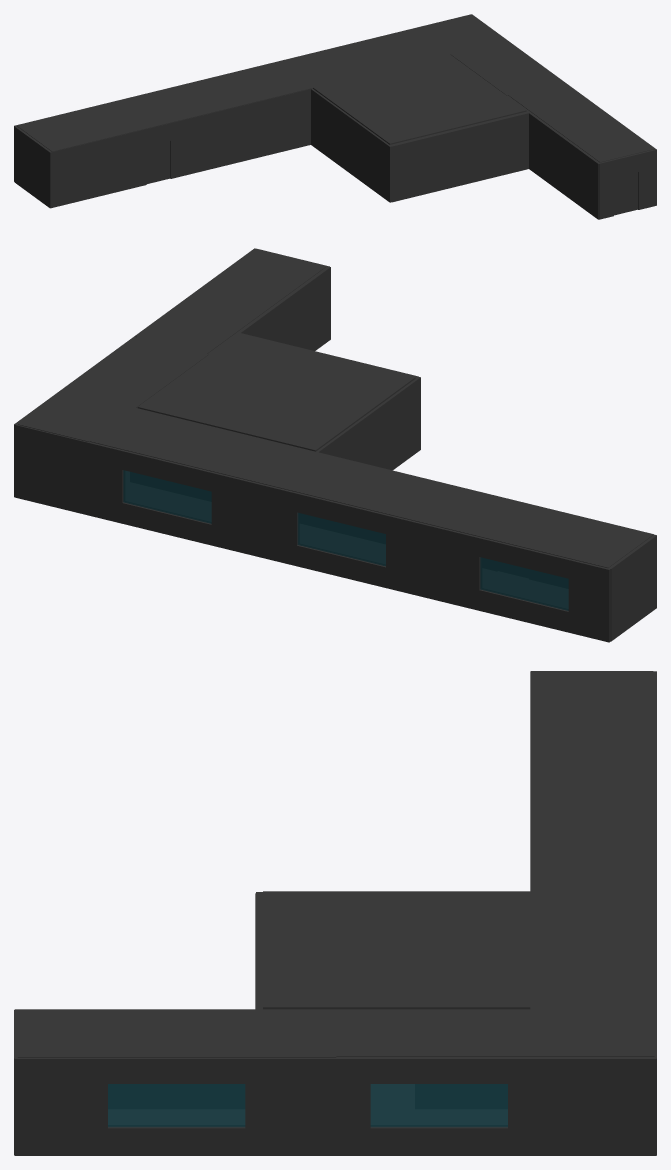
The model's file is MainArea.FBX.
3 views of the same model, one above another, from view 1: azimuth 30°, elevation 25°; view 2: azimuth 150°, elevation 25°; view 3: azimuth 270°, elevation 25° (orthographic). The views are drawn at different scales.
Parts seen in each view (by area): view 1: MainArea; view 2: MainArea; view 3: MainArea.
Part boxes in pixels (x1,y1,x2,y2): MainArea: (14,14,656,219); MainArea: (14,248,656,642); MainArea: (14,671,656,1155).
Size of the model in its own units: 3005 by 2105 by 358.
